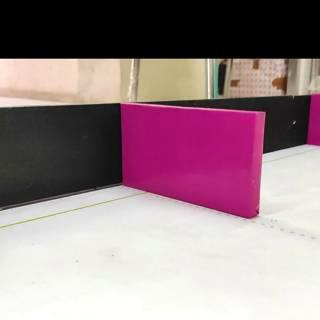xparking: (121, 113, 263, 211)
